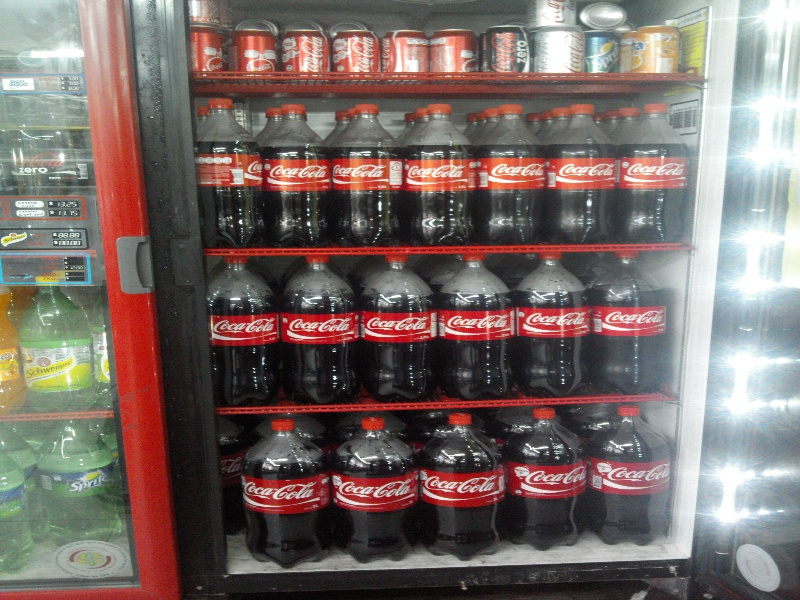lemonade: (412, 415, 509, 559), (240, 421, 332, 566), (280, 255, 366, 406), (433, 253, 517, 401), (328, 421, 416, 561), (586, 407, 673, 547), (587, 248, 669, 393), (515, 252, 594, 395), (206, 260, 283, 406), (360, 252, 434, 401), (398, 105, 475, 247), (193, 99, 267, 246), (328, 105, 403, 249), (506, 409, 583, 548), (262, 102, 330, 247), (546, 105, 618, 241), (474, 105, 543, 244), (619, 104, 685, 245)
